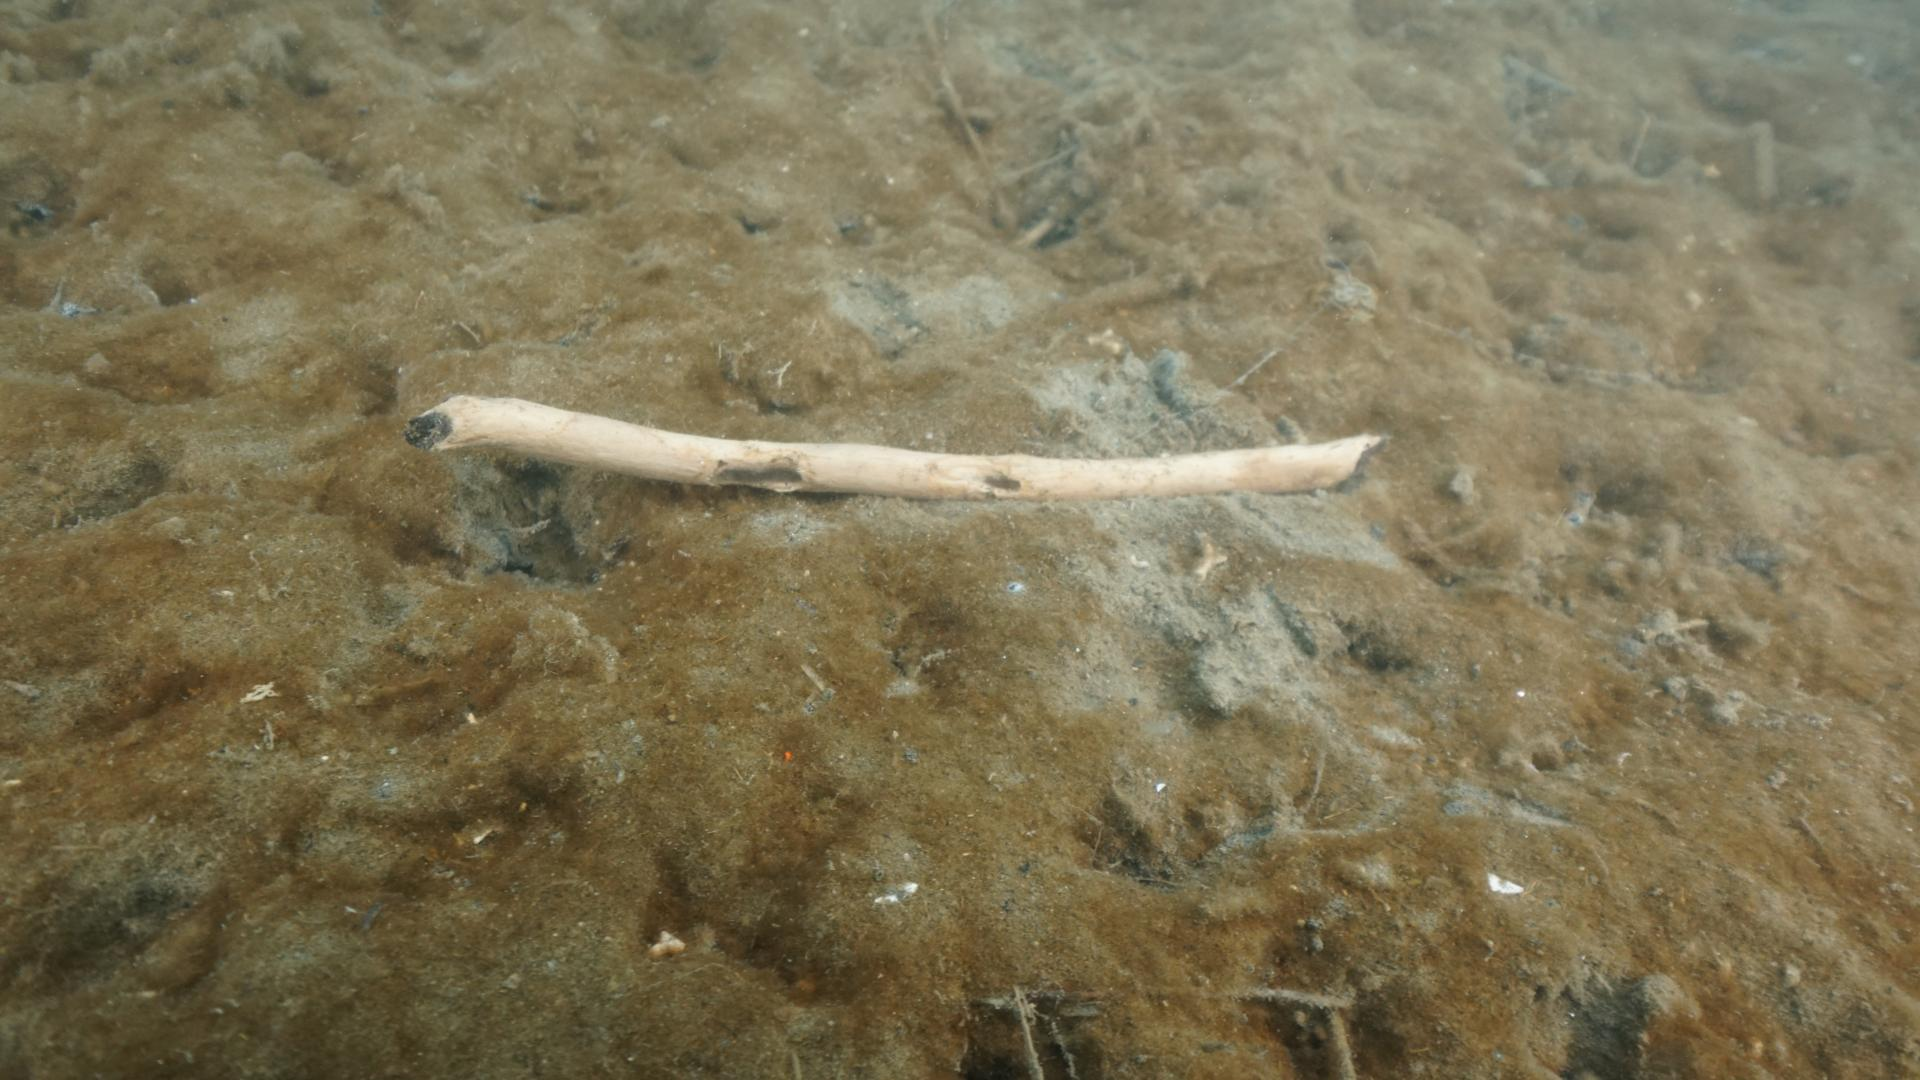wood: (404, 392, 1378, 504)
